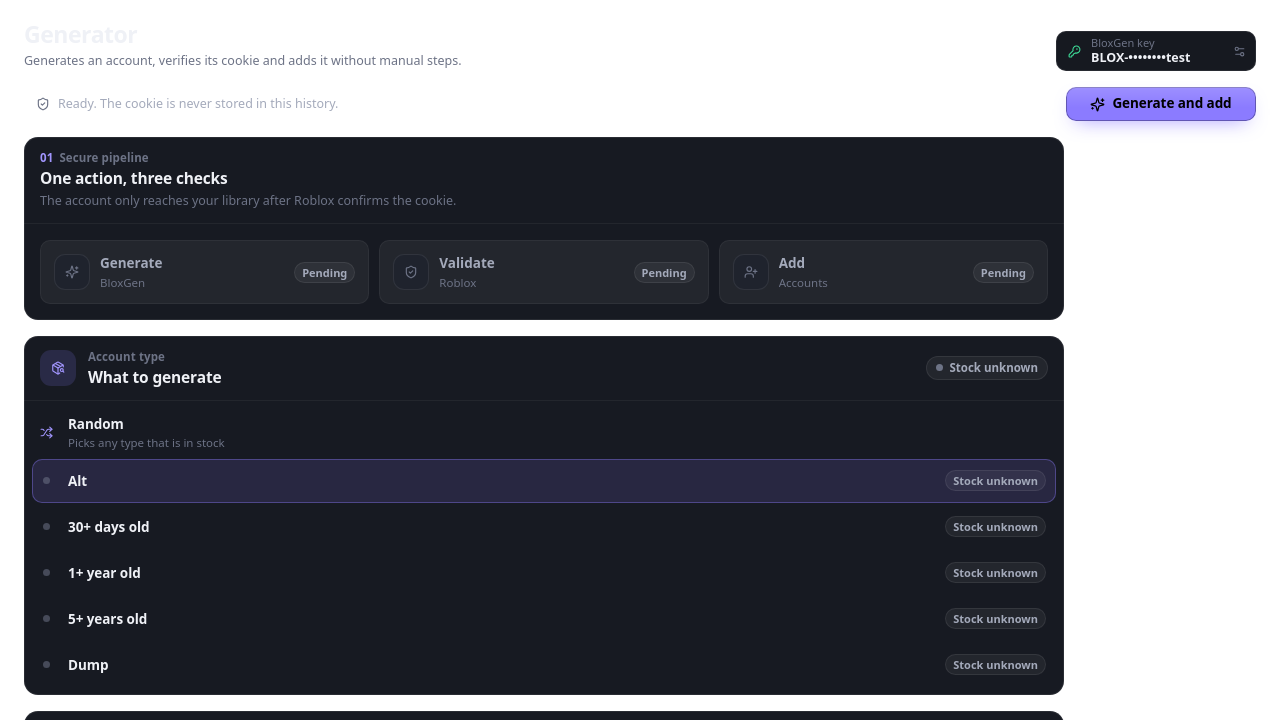
Generator secure automatic add flow › validates the generated cookie and never adds it when Roblox rejects it
Click the button "Generate and add".
click(1161, 104)  # box [1066,87,1256,121]
(page scrolled)
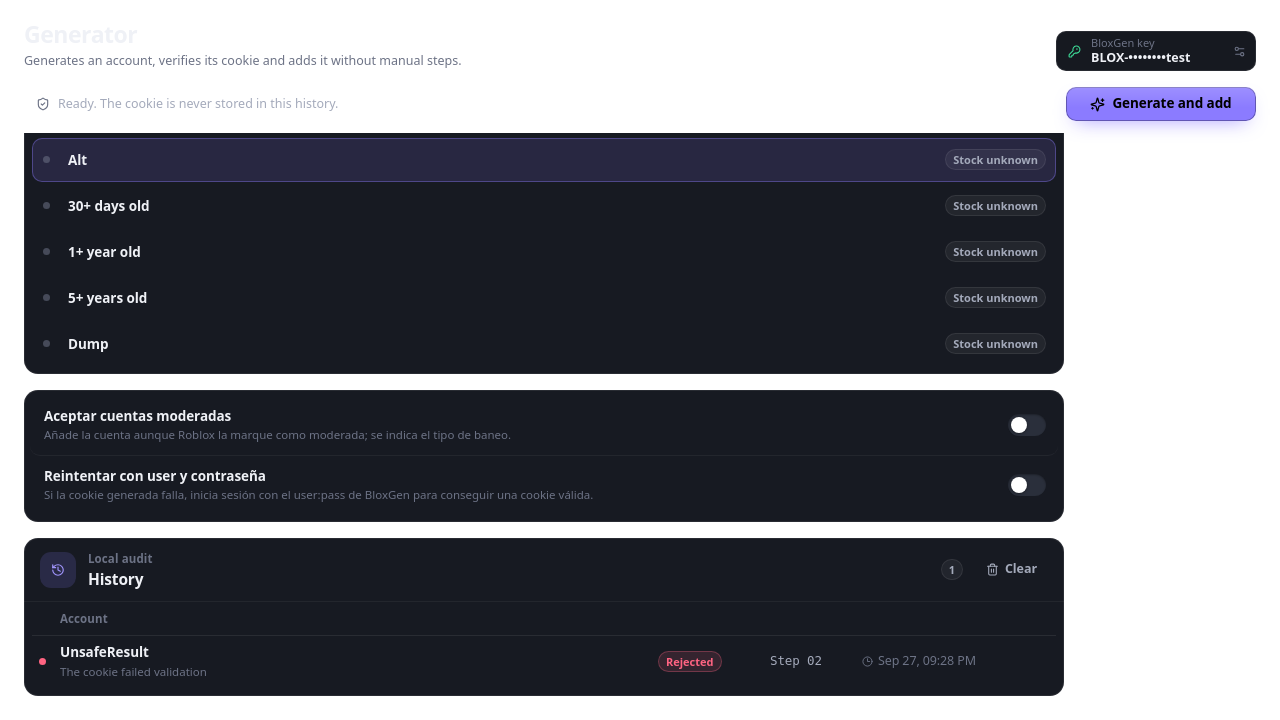
Expected: the text "Rejected" is shown, [658,651,722,672]
